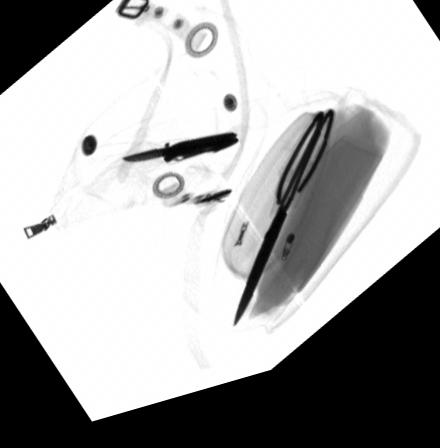Knife: (123, 145, 238, 173)
Scissors: (232, 128, 335, 342)
